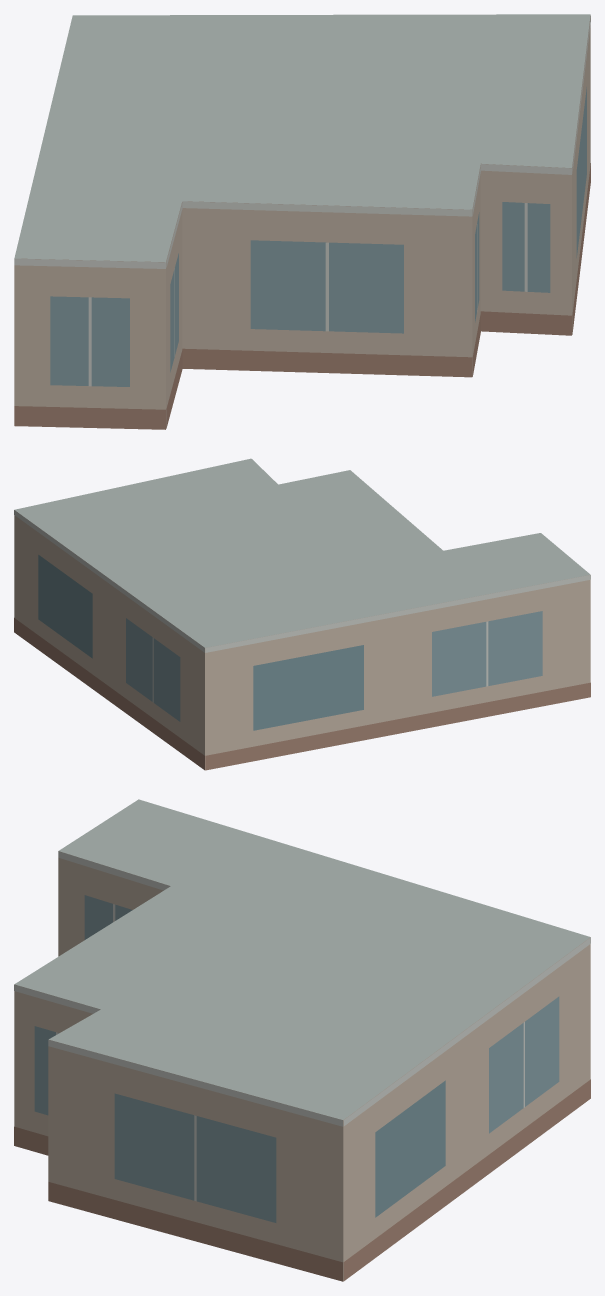
The model's file is survey-upis-32734996.glb.
3 renders of one model, top to bottom at view 1: azimuth 30°, elevation 25°; view 2: azimuth 150°, elevation 25°; view 3: azimuth 270°, elevation 25°, orthographic. The views are drawn at different scales.
Parts seen in each view (by area): view 1: survey-upis-32734996.tmp; view 2: survey-upis-32734996.tmp; view 3: survey-upis-32734996.tmp.
Boxes of the visible parts, <box> form: survey-upis-32734996.tmp: <box>14,14,590,429</box>; survey-upis-32734996.tmp: <box>14,458,590,770</box>; survey-upis-32734996.tmp: <box>14,799,590,1281</box>.
Bounding box in the file's own units: 13.01 × 3.05 × 9.88.
